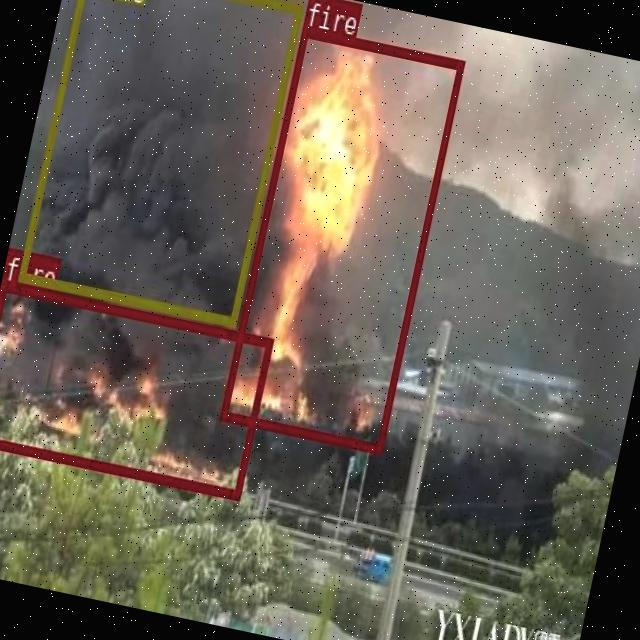fire: (218, 25, 464, 452), (0, 279, 271, 498)
smoke: (16, 0, 303, 325)
